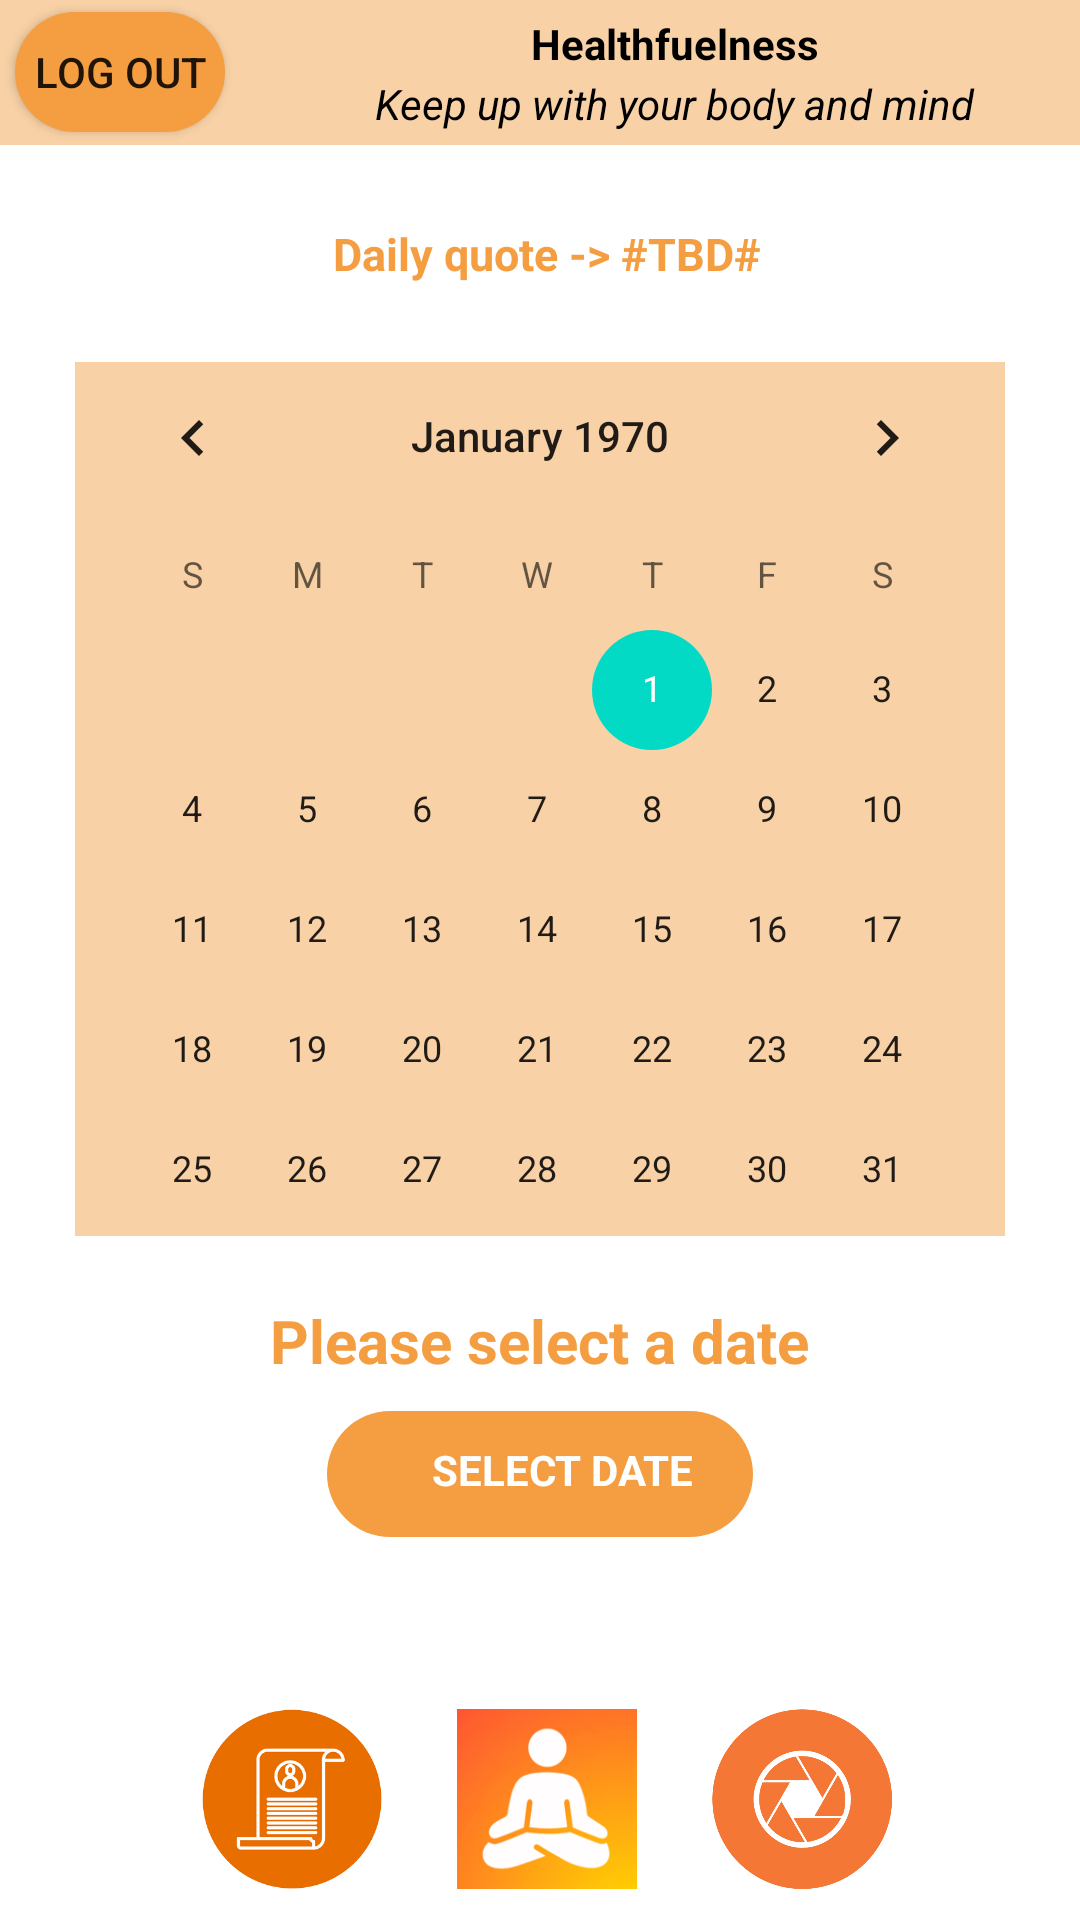

Icon bounding boxes for this 1080x1920 phone screenshot, format (x1=x1, y1=y1, x2=x2, y2=y2):
set profile: (x1=202, y1=1709, x2=382, y2=1889)
